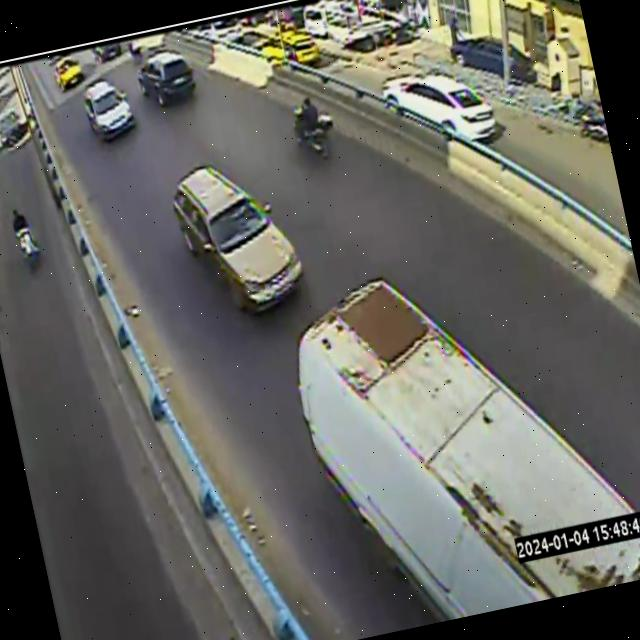car: (297, 280, 640, 620), (171, 164, 302, 311), (382, 73, 495, 140), (137, 49, 195, 106), (83, 79, 135, 139), (53, 55, 84, 90), (288, 34, 319, 64)
